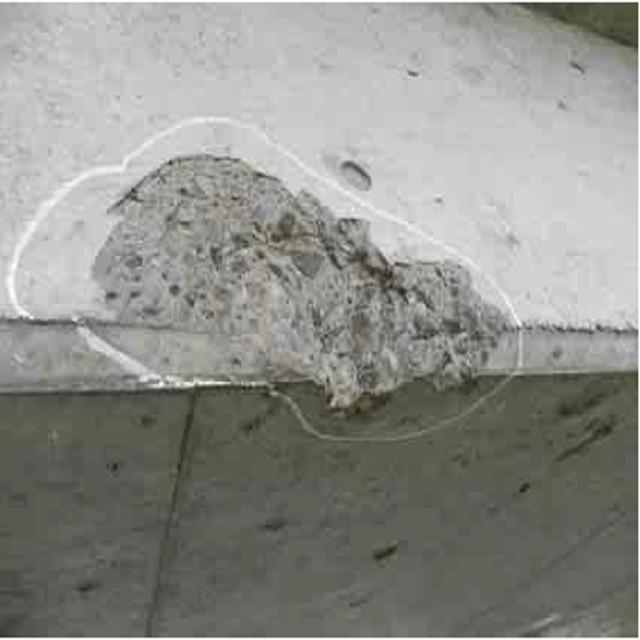spalling: (67, 143, 493, 436)
